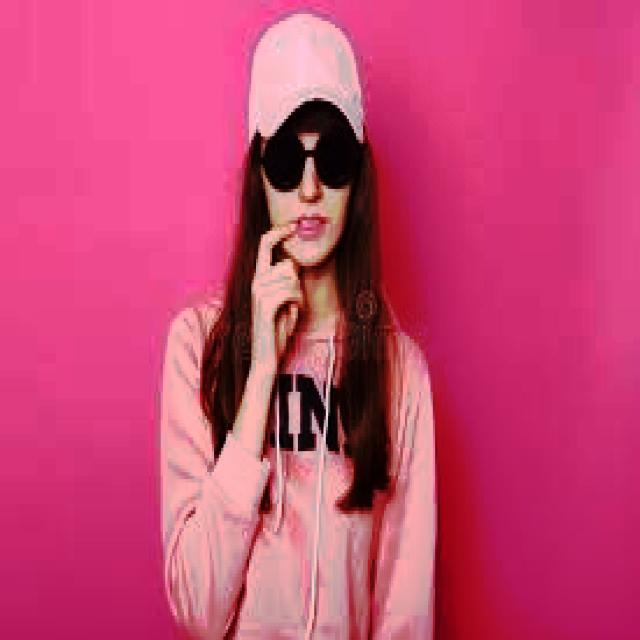TOPI: (236, 3, 395, 172)
